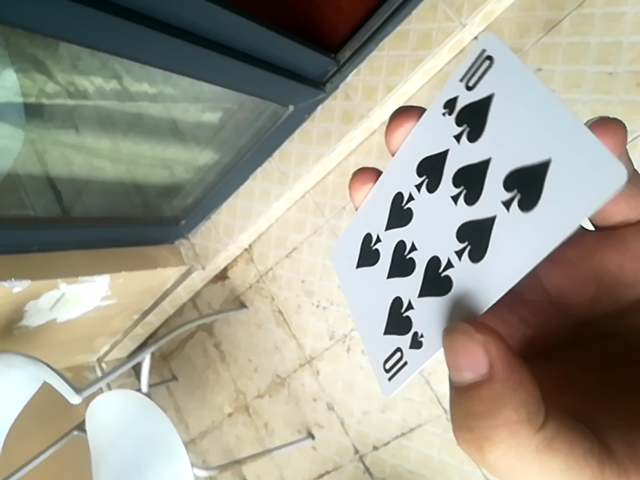ht 10: (324, 38, 633, 401)
